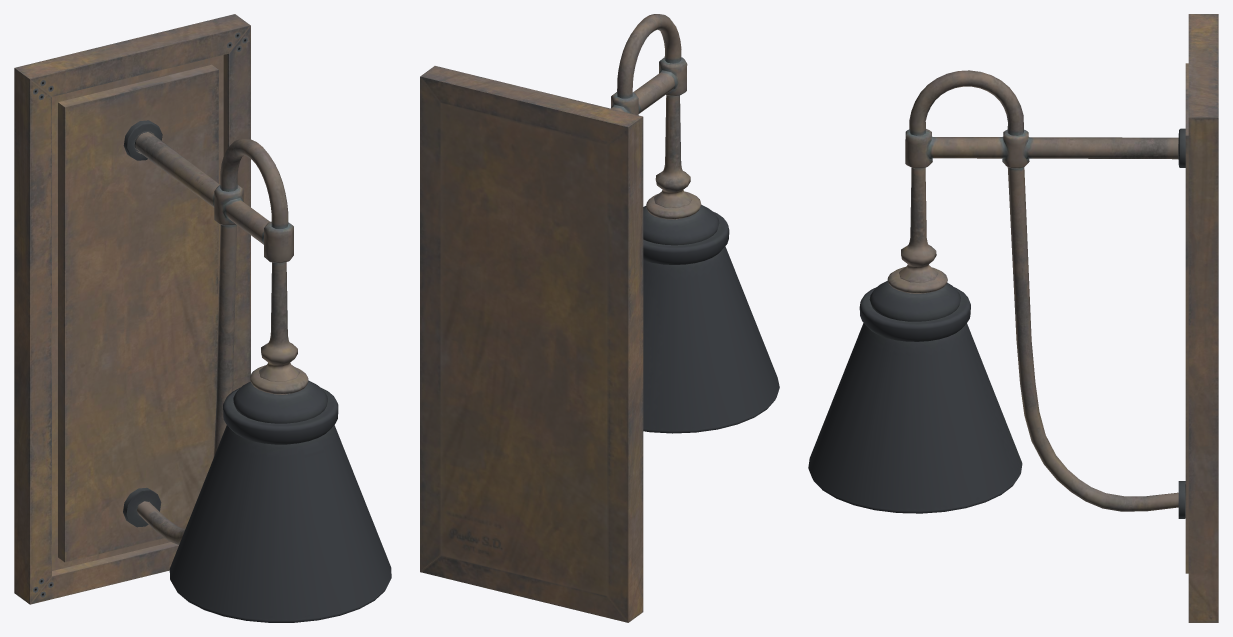
Rendered from industrial_wall_sconce.fbx.
3 renders of one model, left to right at view 1: azimuth 30°, elevation 25°; view 2: azimuth 150°, elevation 25°; view 3: azimuth 270°, elevation 25°, orthographic. The views are drawn at different scales.
Parts seen in each view (by area): view 1: industrial_wall_sconce_lod0; view 2: industrial_wall_sconce_lod0; view 3: industrial_wall_sconce_lod0.
Part boxes in pixels (left/top/right/bottom): industrial_wall_sconce_lod0: left=14, top=14, right=391, bottom=622; industrial_wall_sconce_lod0: left=420, top=14, right=779, bottom=622; industrial_wall_sconce_lod0: left=808, top=14, right=1218, bottom=622.
Size of what is drawn, in the model's own units: 5.92 by 9.9 by 13.46.
